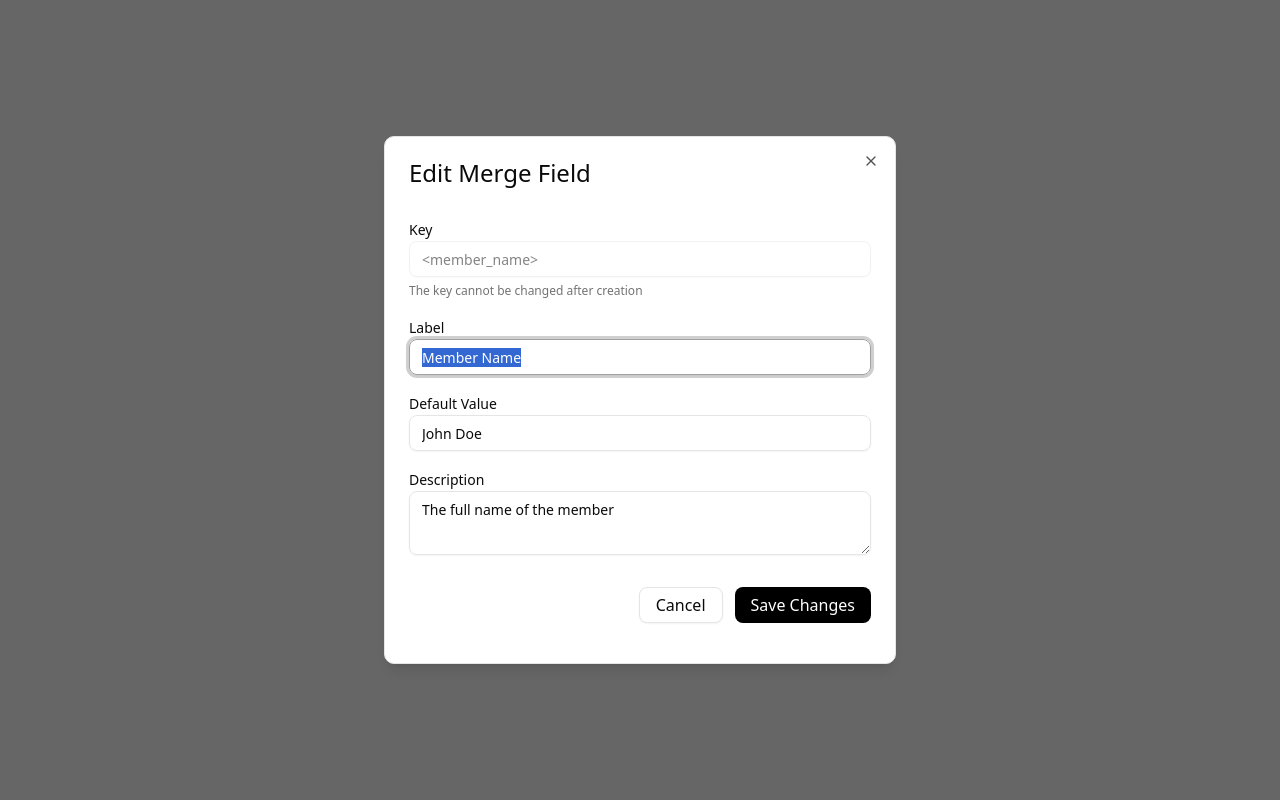
Test case: EditMergeFieldModal › should disable save button when label is empty
This screenshot has width=1280, height=800.
Clear the field below "Label" at [640, 357], box [409,339,871,375]
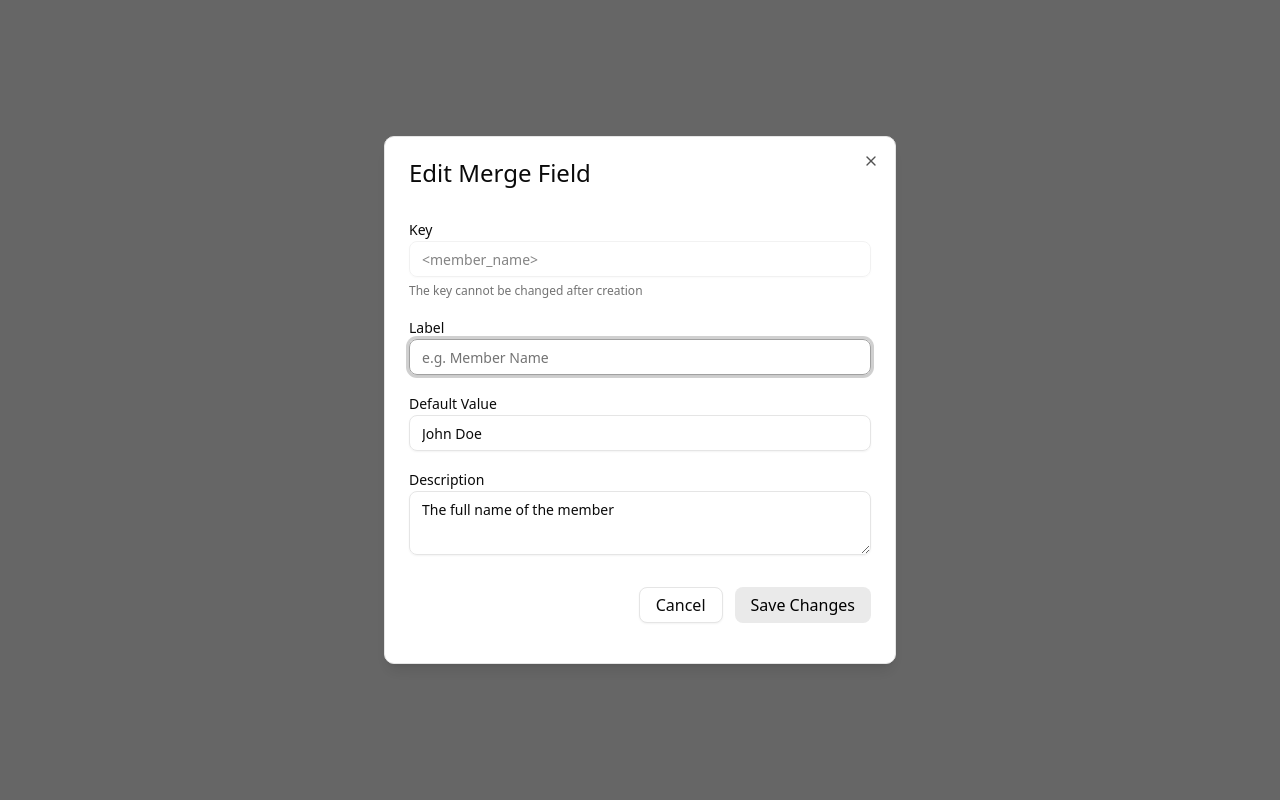
Expected: the button "Save Changes" is disabled, [734,587,871,623]
